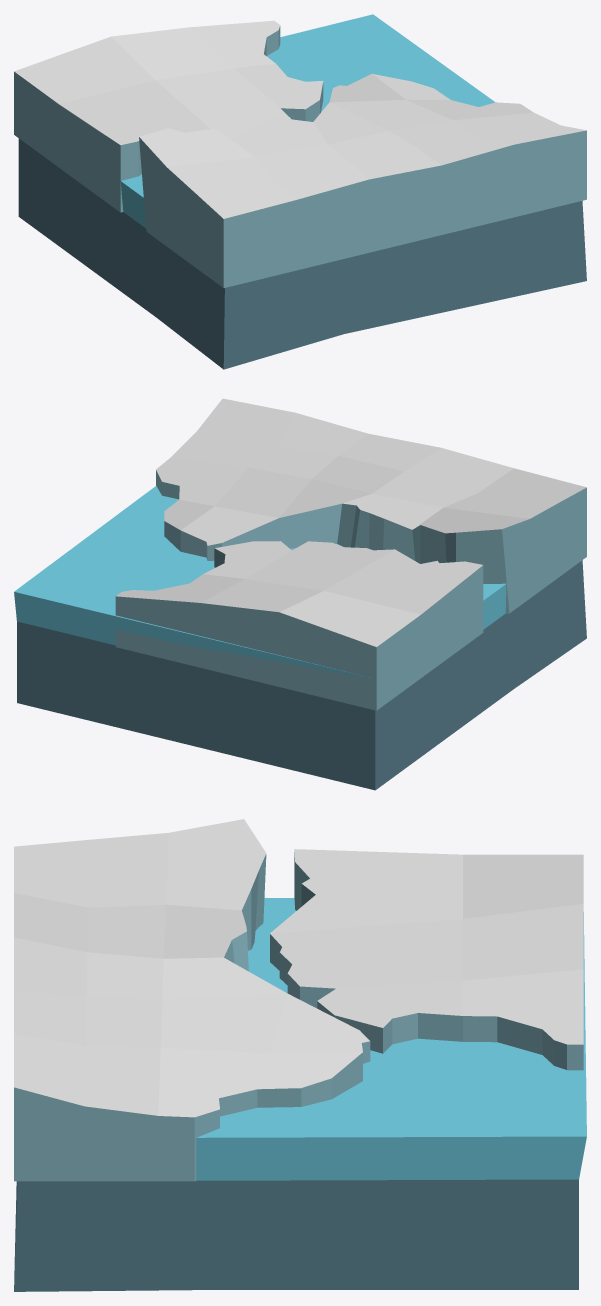
File: ice01.fbx
3 views of the same model, one above another, from view 1: azimuth 30°, elevation 25°; view 2: azimuth 150°, elevation 25°; view 3: azimuth 270°, elevation 25° (orthographic). The views are drawn at different scales.
Visible parts, largest first — view 1: nature_artic_terrain, nature_artic_terrain_water; view 2: nature_artic_terrain, nature_artic_terrain_water; view 3: nature_artic_terrain, nature_artic_terrain_water.
Boxes of the visible parts, x1=… form: nature_artic_terrain: x1=14, y1=20, x2=586, y2=369; nature_artic_terrain_water: x1=120, y1=14, x2=495, y2=228; nature_artic_terrain: x1=17, y1=398, x2=586, y2=790; nature_artic_terrain_water: x1=14, y1=486, x2=506, y2=678; nature_artic_terrain: x1=14, y1=819, x2=583, y2=1291; nature_artic_terrain_water: x1=196, y1=898, x2=586, y2=1180.
Size of the model in its own units: 20 by 8.99 by 20.12.
